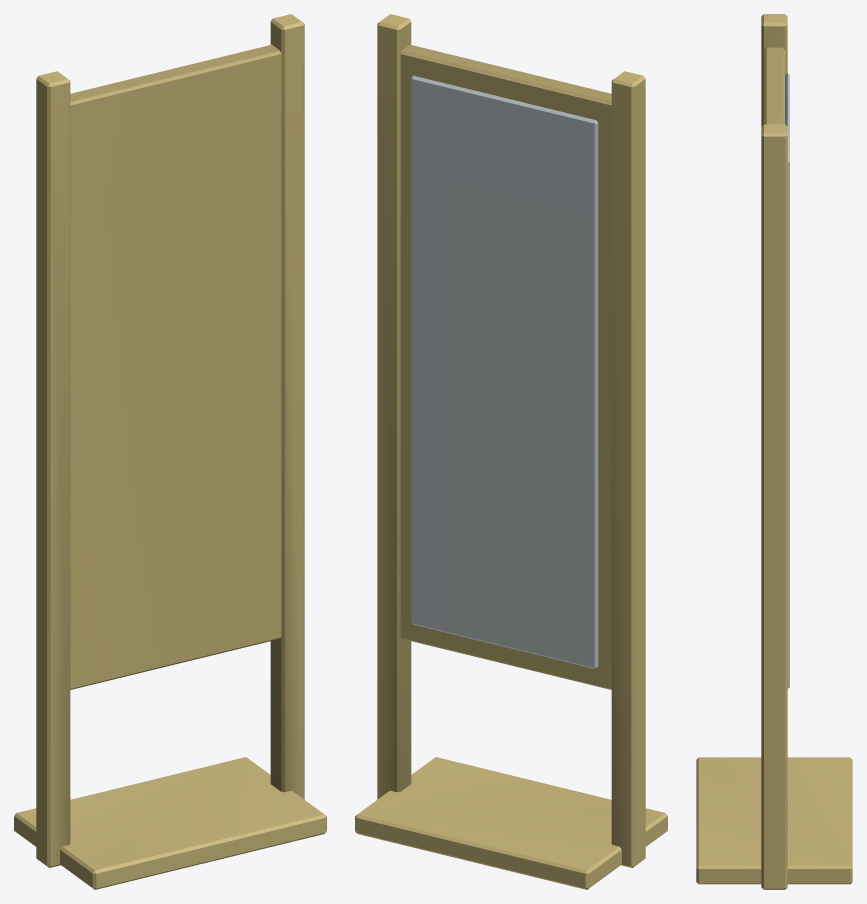
Rendered from furn_mirror_stand__gold.glb.
3 renders of one model, left to right at view 1: azimuth 30°, elevation 25°; view 2: azimuth 150°, elevation 25°; view 3: azimuth 270°, elevation 25°, orthographic. The views are drawn at different scales.
Size of the model in its own units: 0.55 by 1.6 by 0.3.
